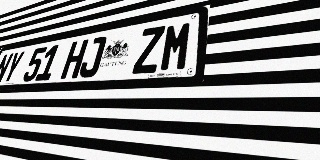1: (35, 44, 62, 81)
5: (21, 47, 48, 82)
H: (60, 39, 89, 79)
J: (77, 36, 107, 78)
M: (158, 20, 194, 72)
N: (0, 53, 14, 84)
Y: (1, 51, 25, 83)
Z: (132, 25, 166, 74)
